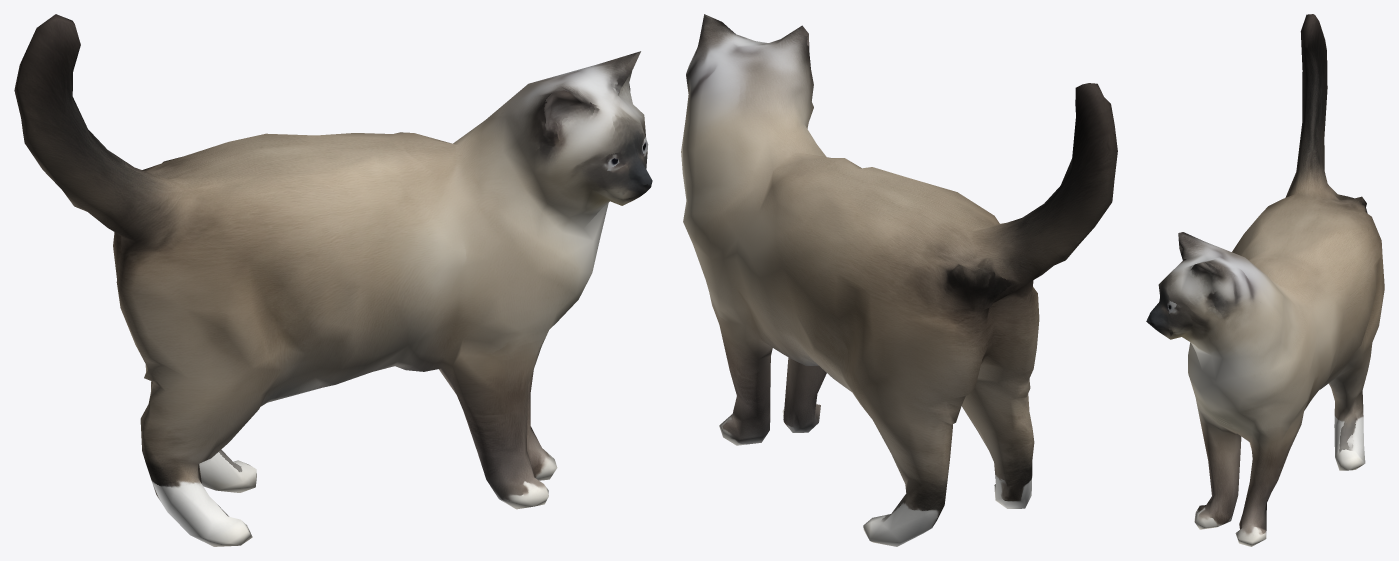
File: cat_ragdoll_single_1500.glb
3 renders of one model, left to right at view 1: azimuth 30°, elevation 25°; view 2: azimuth 150°, elevation 25°; view 3: azimuth 270°, elevation 25°, orthographic. The views are drawn at different scales.
Bounding box in the file's own units: 0.8661 × 0.8227 × 0.4644.
Materials: 1 (1 with a texture image).
